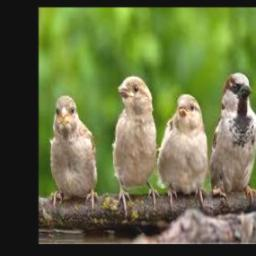Sparrow: (113, 76, 159, 214), (209, 71, 256, 204), (49, 95, 99, 213), (157, 93, 208, 203)
